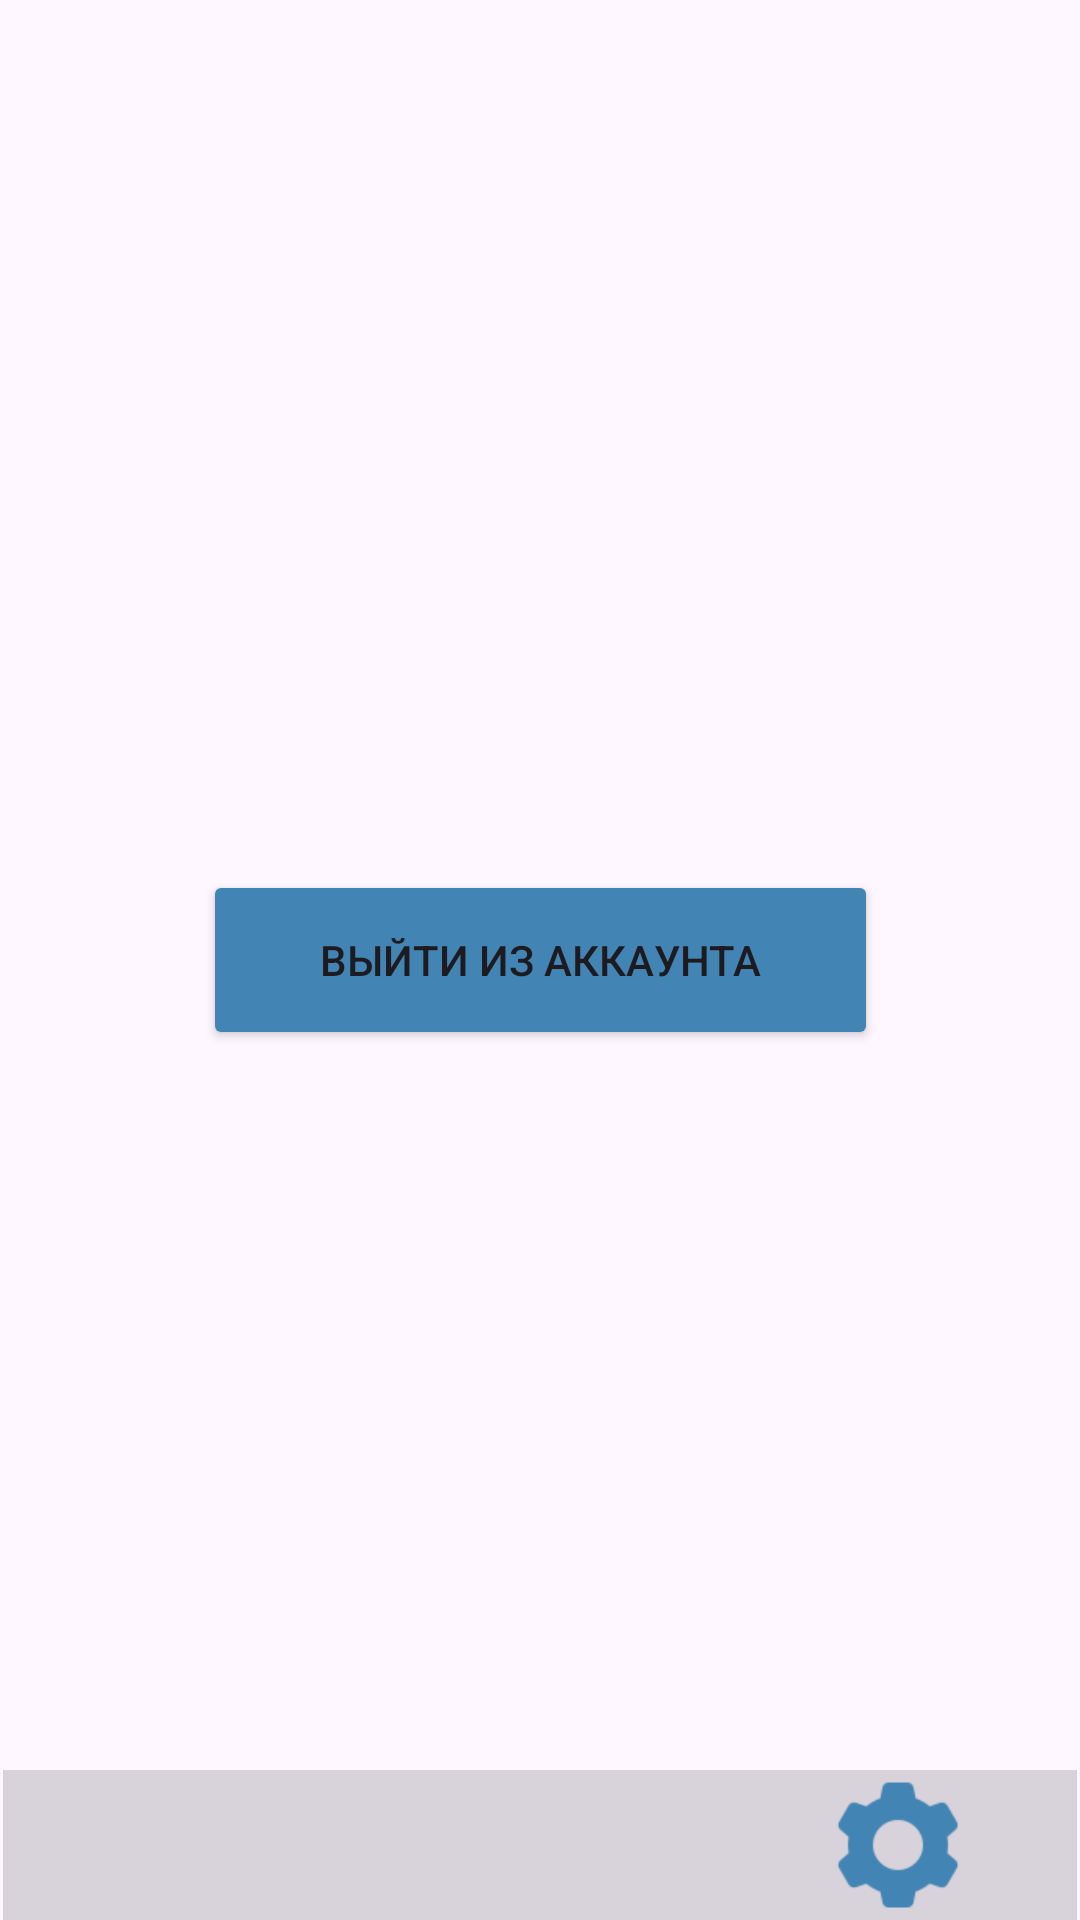

Where icons sit on this 1080px×1920px app screen, as {"left": x1, "top": y1, "right": x2, "bottom": y2}:
settings 96p lightblue: {"left": 838, "top": 1782, "right": 958, "bottom": 1908}
